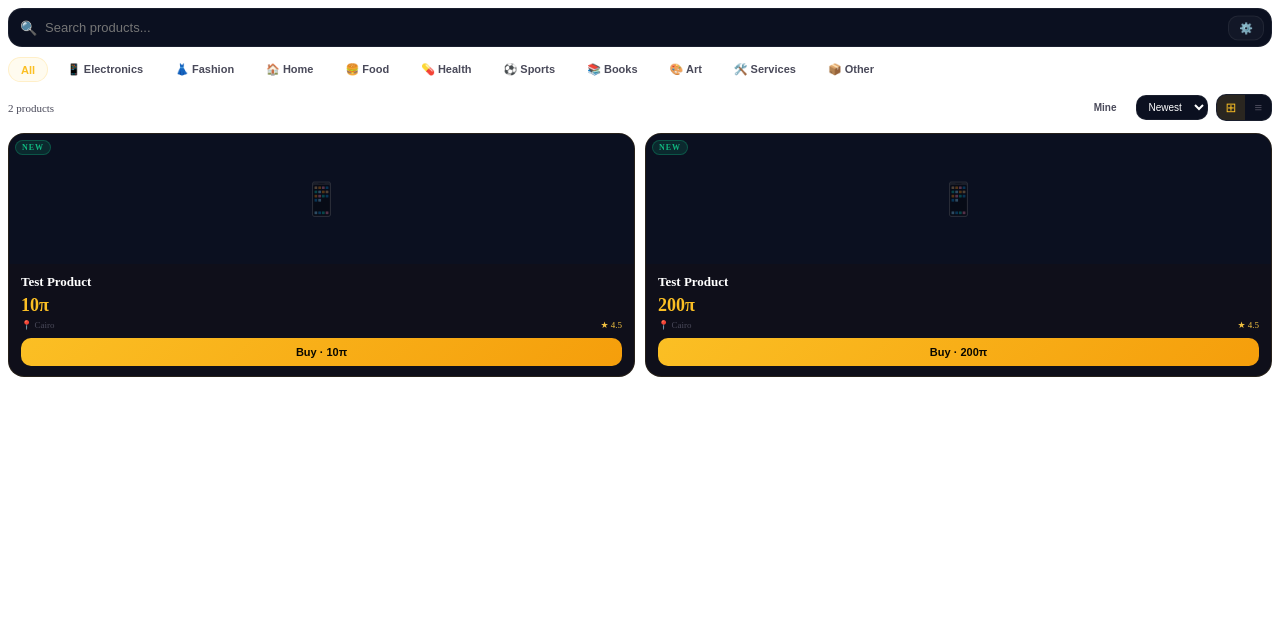
Test: ProductsTab › Reset Filters يرجع كل المنتجات
Click the button with test id "filter-toggle": (1246, 28) left=1228, top=15, right=1264, bottom=40
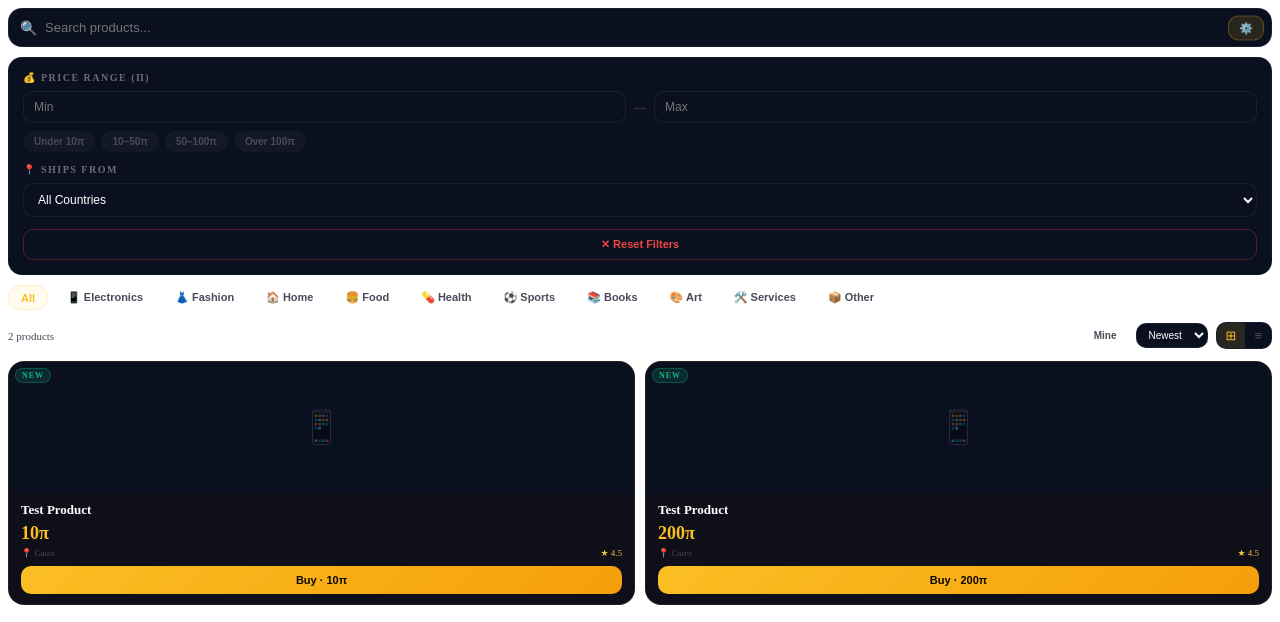
In the number field with placeholder "Min": (324, 107) left=23, top=91, right=626, bottom=123, type "100"
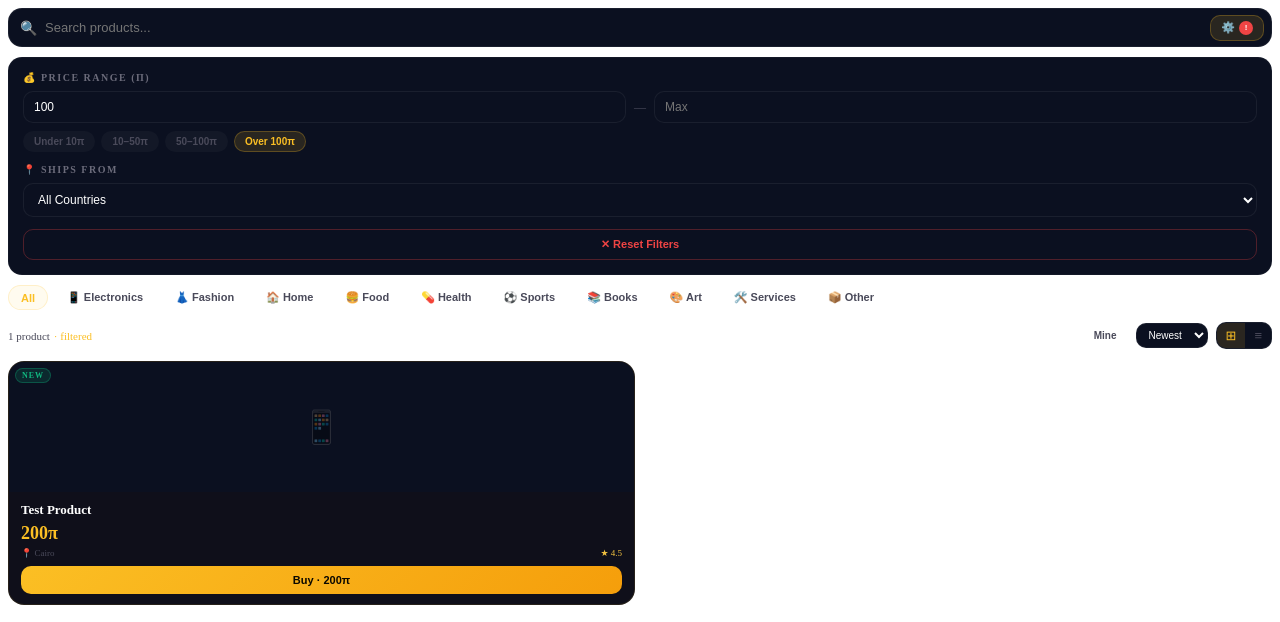
Now the element with test id "card-p1" is gone
Click the button "✕ Reset Filters": (640, 244) left=23, top=229, right=1257, bottom=260
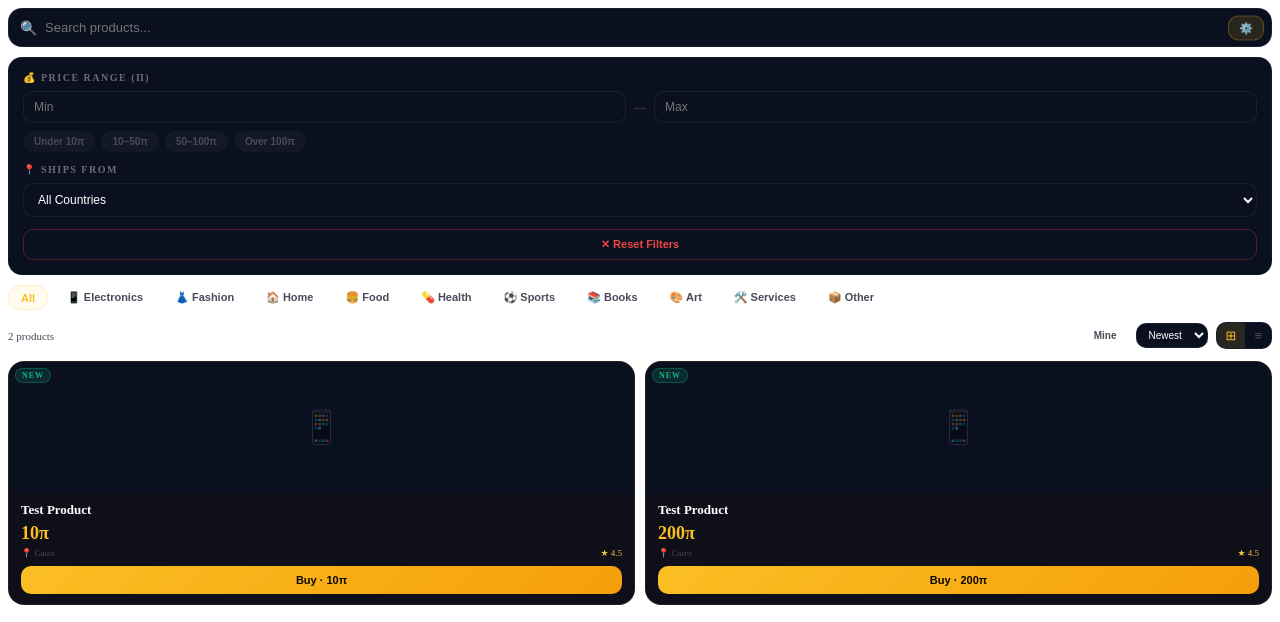
Expected: the element with test id "card-p2" is shown, left=645, top=361, right=1272, bottom=605
Now the element with test id "card-p1" is shown, box left=8, top=361, right=635, bottom=605
